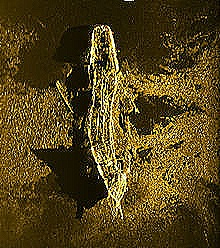ship: (86, 22, 133, 221)
